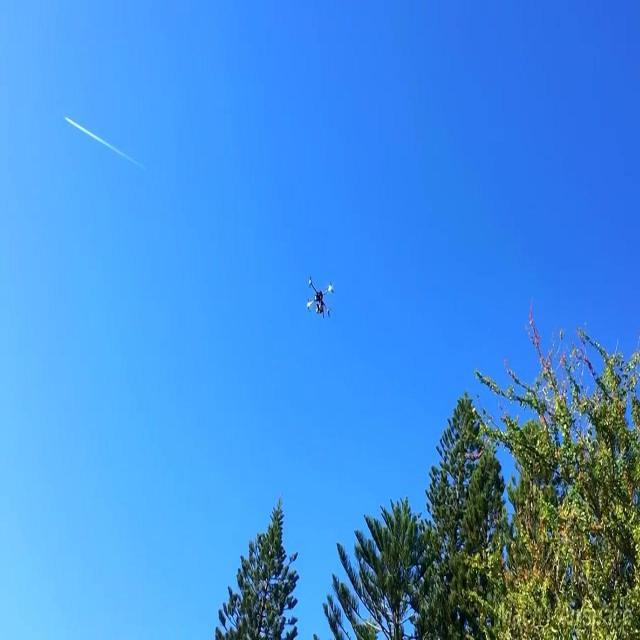UAV: (307, 278, 334, 318)
